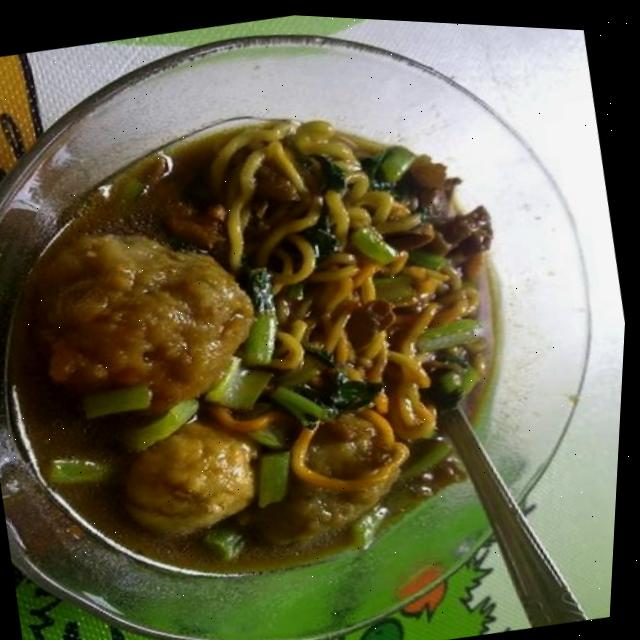面条主食: (0, 42, 613, 640)
